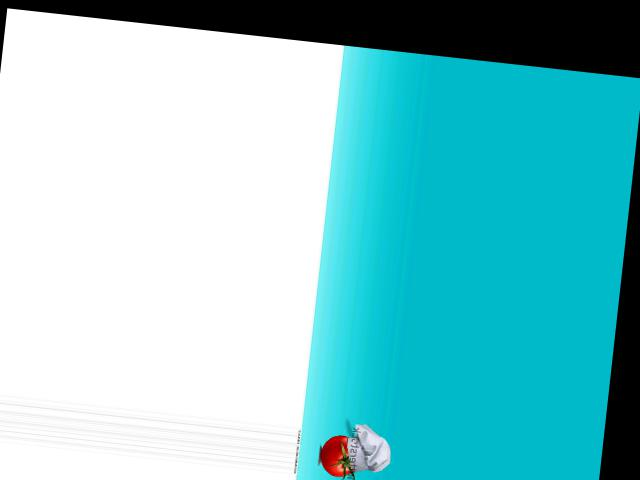tomato: (319, 433, 357, 477)
